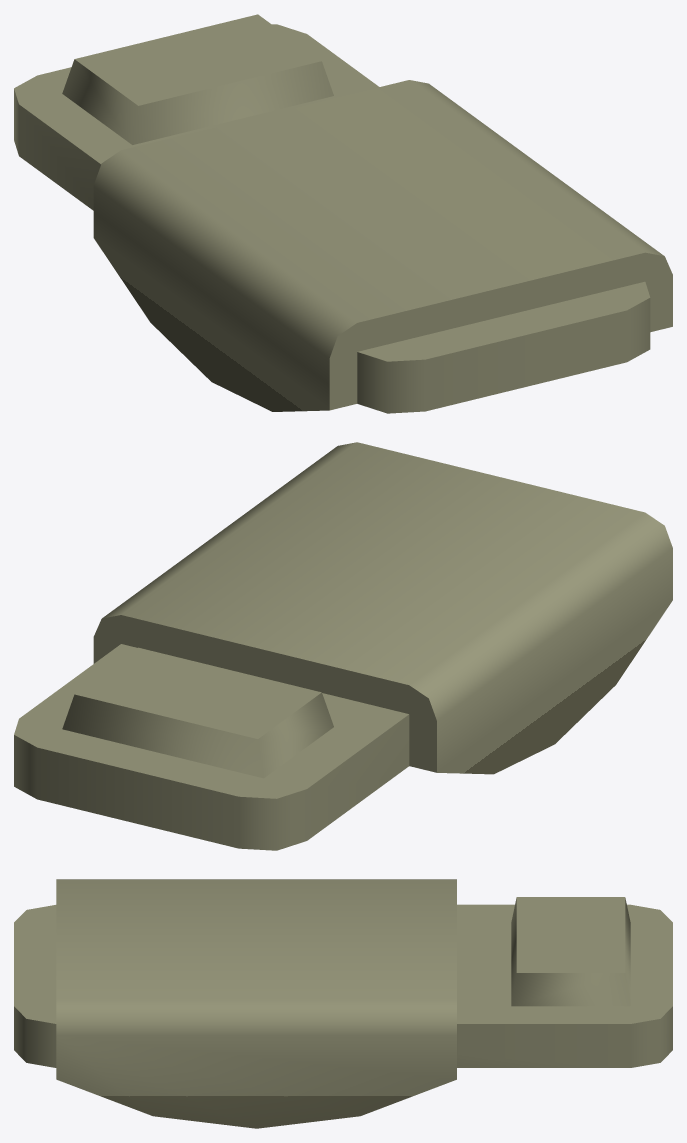
The model's file is bundle-open-bedroll.glb.
3 views of the same model, one above another, from view 1: azimuth 30°, elevation 25°; view 2: azimuth 150°, elevation 25°; view 3: azimuth 270°, elevation 25° (orthographic). The views are drawn at different scales.
Visible parts, largest first — view 1: bundle-open-bedroll runtime mesh; view 2: bundle-open-bedroll runtime mesh; view 3: bundle-open-bedroll runtime mesh.
Part boxes in pixels (x1,y1,x2,y2): bundle-open-bedroll runtime mesh: [14, 14, 672, 413]; bundle-open-bedroll runtime mesh: [14, 442, 672, 850]; bundle-open-bedroll runtime mesh: [14, 879, 672, 1128].
Bounding box in the file's own units: 0.8702 × 0.35 × 1.7.
Materials: 2 (2 with a texture image).
